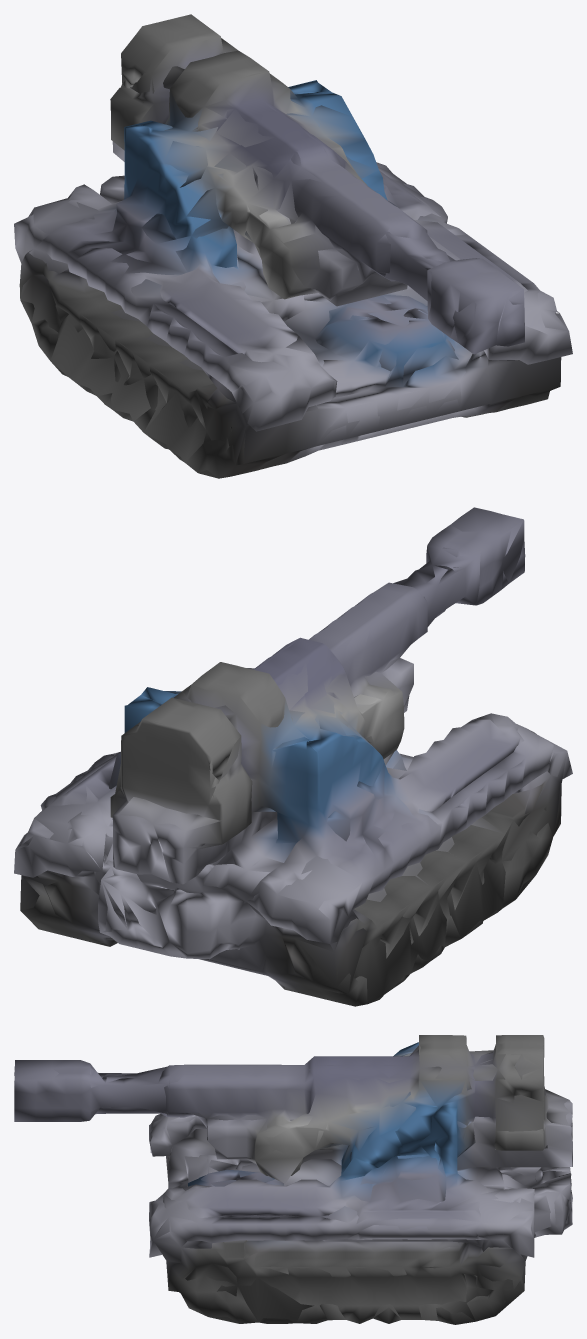
Rendered from tank_destroyer.glb.
3 views of the same model, one above another, from view 1: azimuth 30°, elevation 25°; view 2: azimuth 150°, elevation 25°; view 3: azimuth 270°, elevation 25° (orthographic). The views are drawn at different scales.
Visible parts, largest first — view 1: tank_destroyer; view 2: tank_destroyer; view 3: tank_destroyer.
Boxes of the visible parts, left/top/right/bottom form: tank_destroyer: left=14, top=14, right=572, bottom=478; tank_destroyer: left=14, top=507, right=572, bottom=1006; tank_destroyer: left=14, top=1035, right=572, bottom=1324.
Size of the model in its own units: 2.59 by 2.09 by 4.81.
